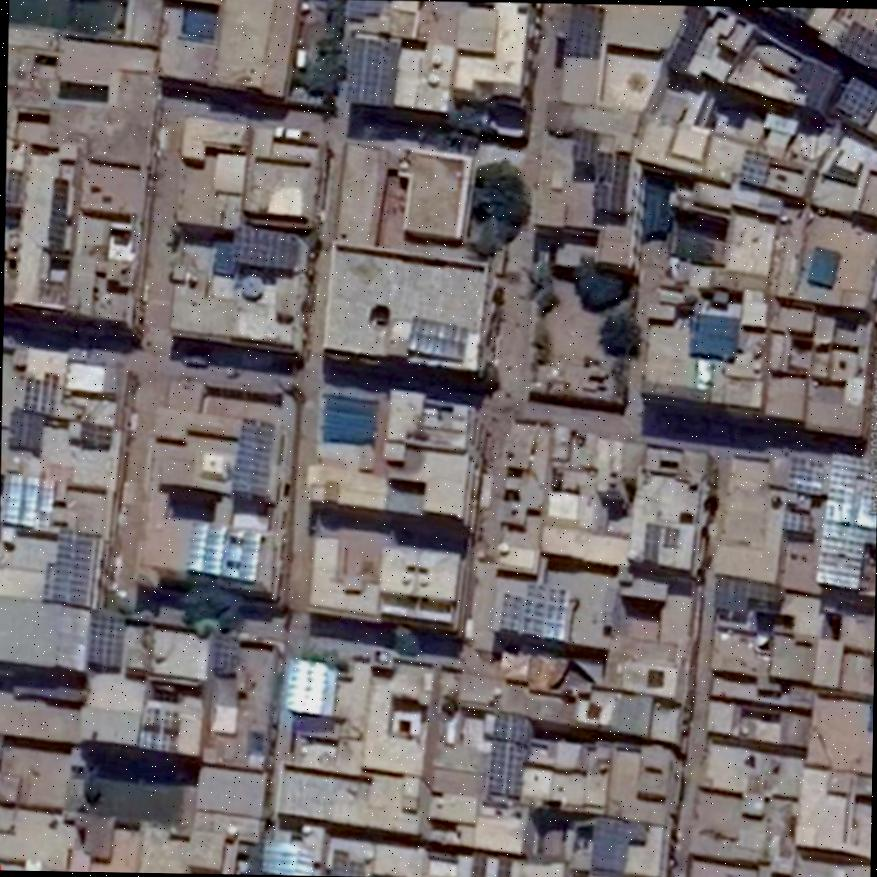Solarpanel: (815, 453, 876, 593), (185, 519, 260, 581), (498, 579, 568, 640), (47, 527, 92, 604), (489, 709, 528, 797), (346, 36, 396, 104), (0, 473, 56, 532), (229, 419, 271, 495), (230, 223, 295, 272), (283, 655, 325, 713), (591, 147, 626, 212), (589, 819, 630, 873), (835, 76, 877, 126), (84, 609, 119, 665), (138, 706, 179, 752), (564, 4, 600, 55), (5, 407, 45, 452), (840, 21, 877, 66), (20, 370, 57, 411), (46, 176, 65, 247), (738, 148, 771, 187), (785, 460, 822, 493), (215, 631, 237, 675)
